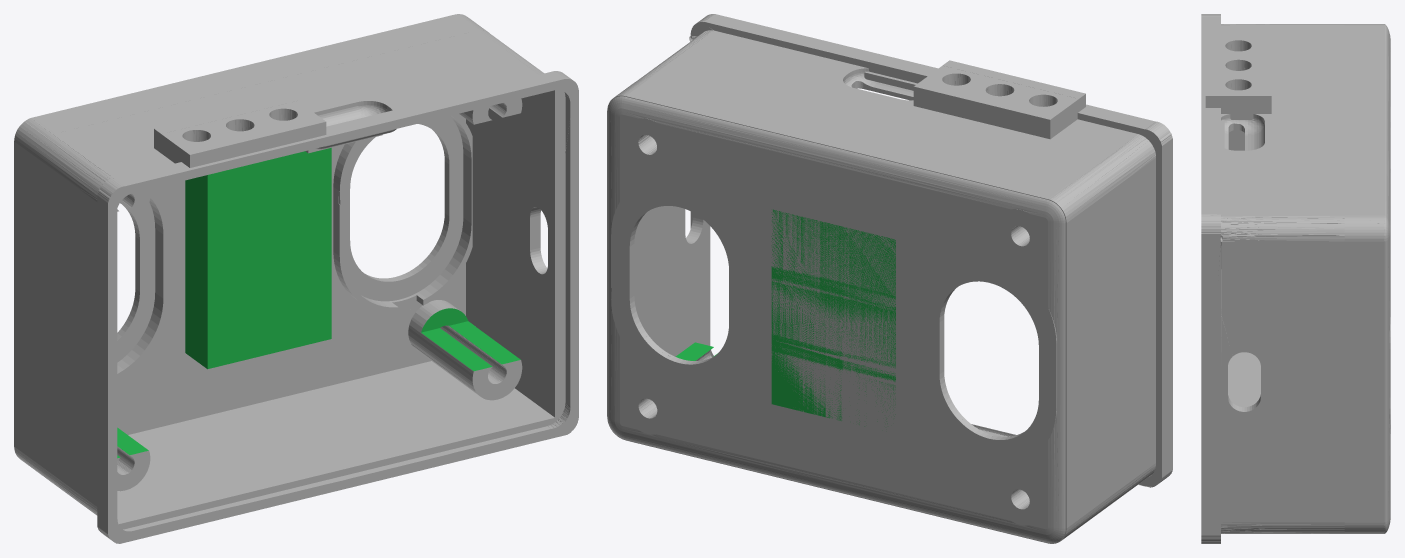
Rendered from tinker.obj.
The picture shows the model from 3 angles, left to right: view 1: azimuth 30°, elevation 25°; view 2: azimuth 150°, elevation 25°; view 3: azimuth 270°, elevation 25°; orthographic projection. The views are drawn at different scales.
Visible parts, largest first — view 1: Object.10, Object.9, Object.11, Object.3, Object.5, Object.8, Object.4, Object.6; view 2: Object.4, Object.10, Object.11, Object.9, Object.3, Object.5; view 3: Object.10, Object.9, Object.3, Object.4.
Part boxes in pixels (x1,y1,x2,y2): Object.10: (14, 14, 578, 543); Object.9: (33, 14, 488, 434); Object.11: (185, 147, 331, 369); Object.3: (154, 95, 326, 167); Object.5: (408, 300, 522, 400); Object.8: (117, 427, 150, 491); Object.4: (117, 129, 448, 337); Object.6: (459, 98, 522, 124); Object.4: (607, 96, 1065, 543); Object.10: (607, 14, 1172, 543); Object.11: (771, 209, 895, 426); Object.9: (615, 79, 1069, 437); Object.3: (913, 60, 1085, 139); Object.5: (642, 342, 717, 415); Object.10: (1201, 14, 1385, 543); Object.9: (1344, 25, 1383, 533); Object.3: (1205, 34, 1271, 119); Object.4: (1382, 25, 1390, 533).
Bounding box in the file's own units: 76.03 × 56.99 × 28.73.
